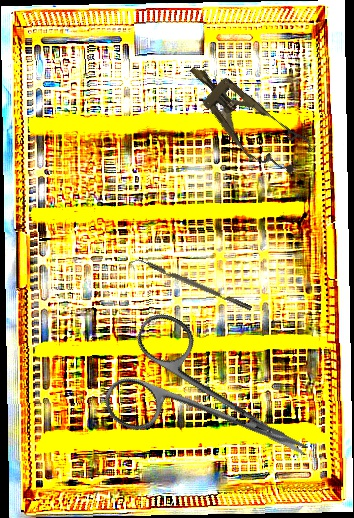Chopper: (128, 253, 253, 317)
Iris Scissors: (96, 306, 333, 508)
Speculum: (173, 48, 318, 186)
